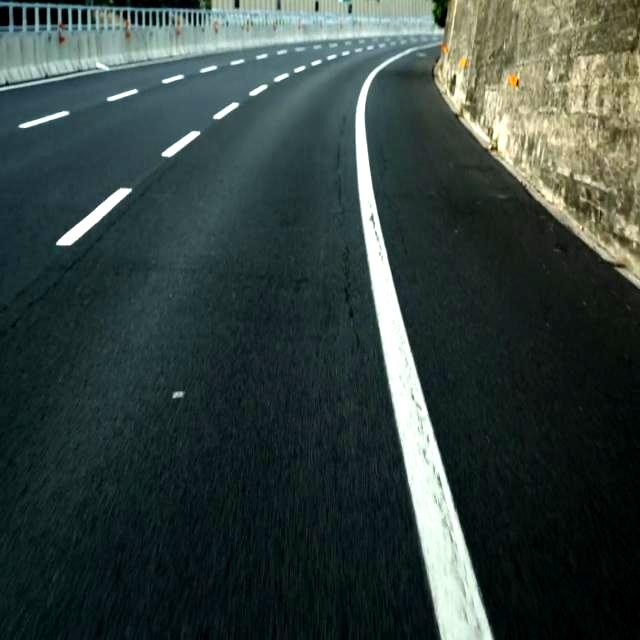lane: (355, 43, 494, 639), (58, 189, 131, 245), (162, 132, 199, 156), (19, 111, 68, 127), (214, 103, 239, 119), (107, 89, 137, 101)
road: (3, 45, 432, 639), (367, 51, 639, 639)
